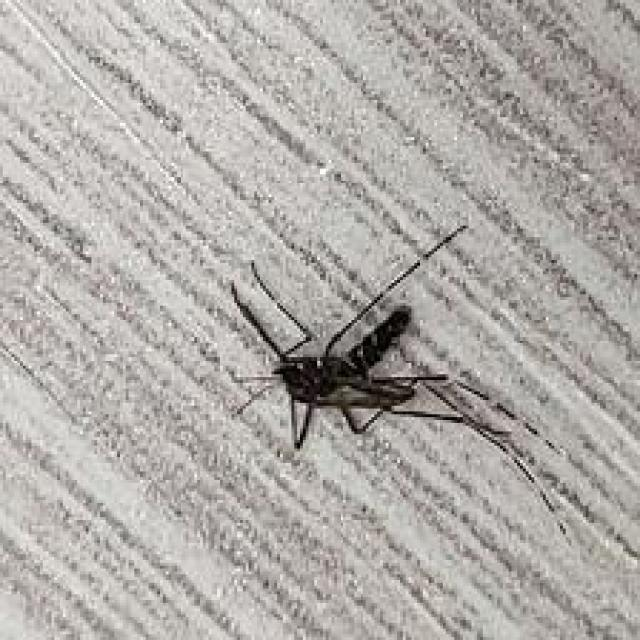Aedes albopictus: (226, 221, 568, 536)
